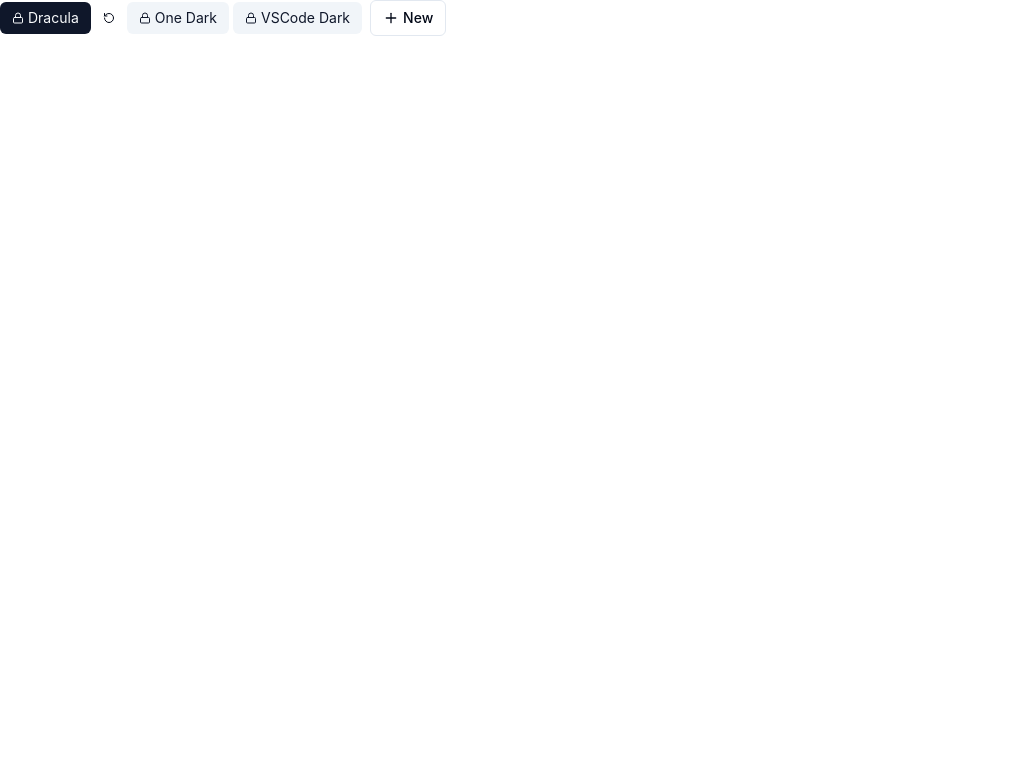
Test case: ThemeSelector › opens new theme dialog and creates a custom theme
The image size is (1024, 768).
Click the button "New".
click(408, 18)  # box [370,0,446,36]
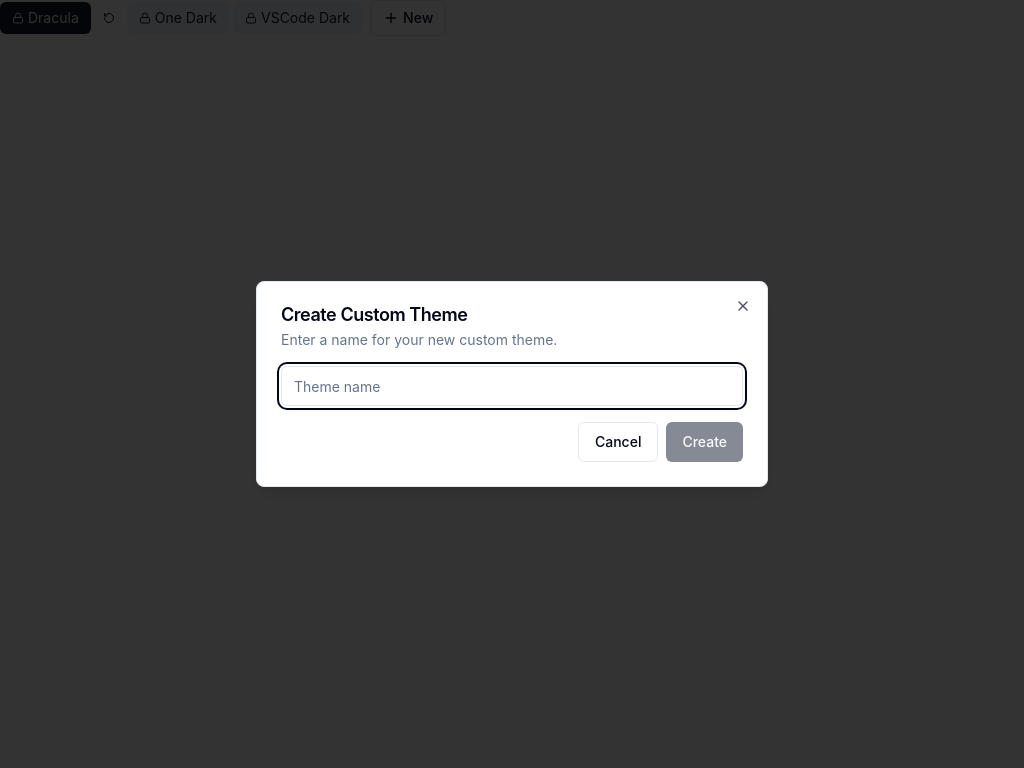
Expected: the heading "Create Custom Theme" is shown, [281,304,467,325]
Type "My Custom" into the field with placeholder "Theme name".
click(512, 386); type("My Custom")  # box [281,366,743,406]
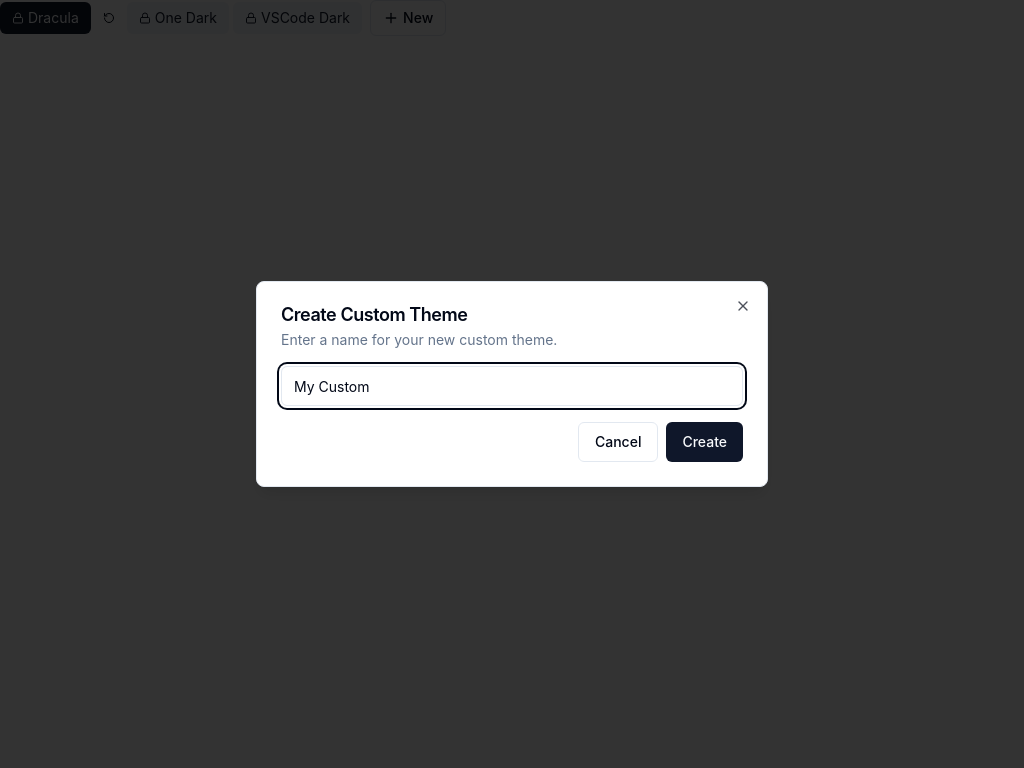
Click the button "Create".
click(705, 442)  # box [666,422,743,462]
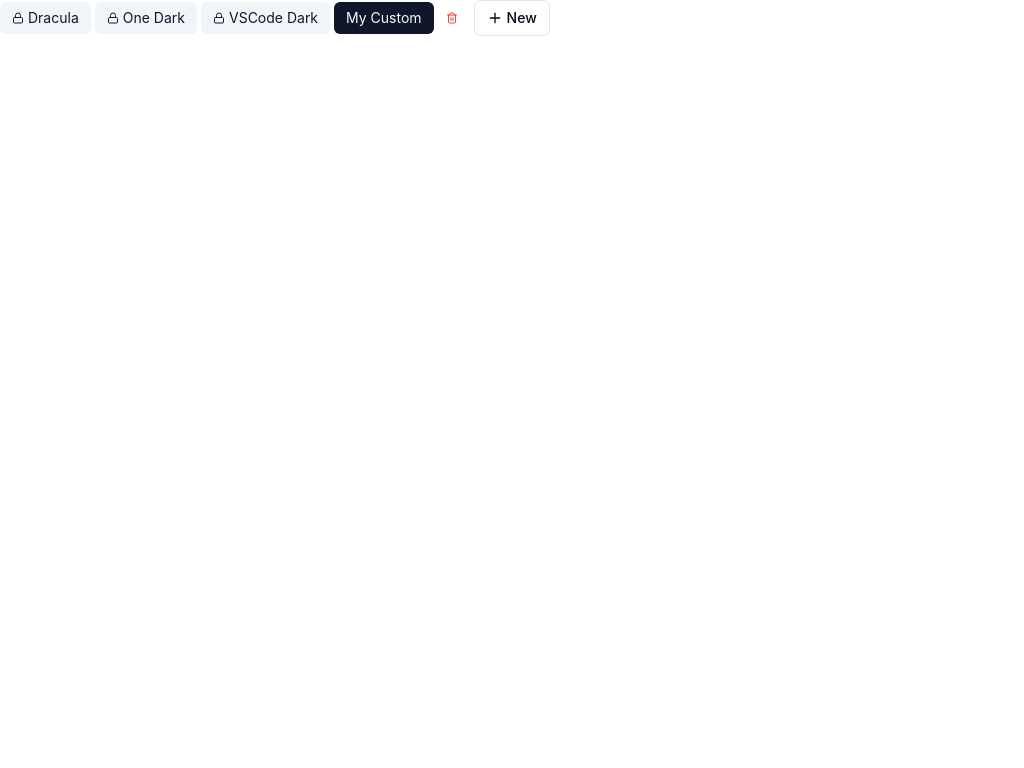
Expected: the button "My Custom" is shown, [334,2,434,34]
